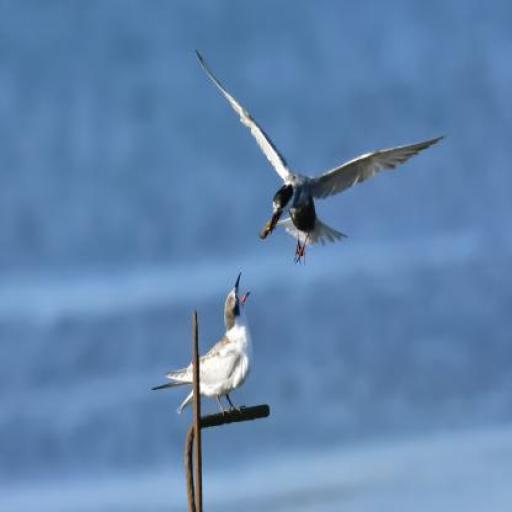bird: (193, 46, 446, 264), (152, 270, 256, 414)
